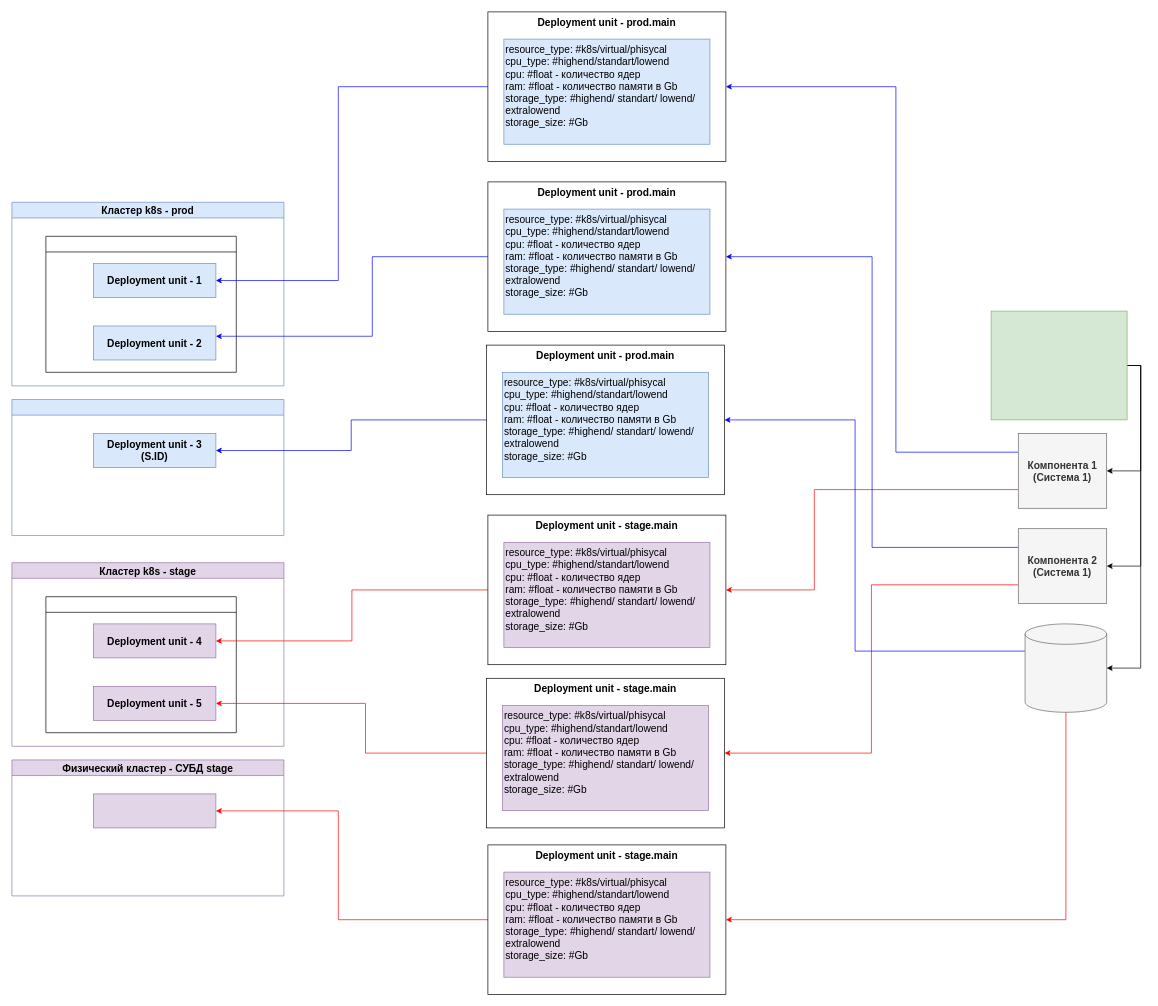
Some shapes in this 1158 by 1006 pixel diagram are drawn without their labels. The shapes that lost their labels are listed below. From the top down, each one's box as (x1, y1, x2, y2) in pixels, then its label:
(45, 236, 236, 372): Namespace S.ID
(990, 310, 1127, 420): S.ID
(11, 399, 284, 536): Физический кластер - СУБД prod
(45, 596, 236, 733): Namespace 1
(1024, 623, 1107, 712): Компонента 3 (Система 1)
(93, 793, 216, 828): Deployment unit - 6
